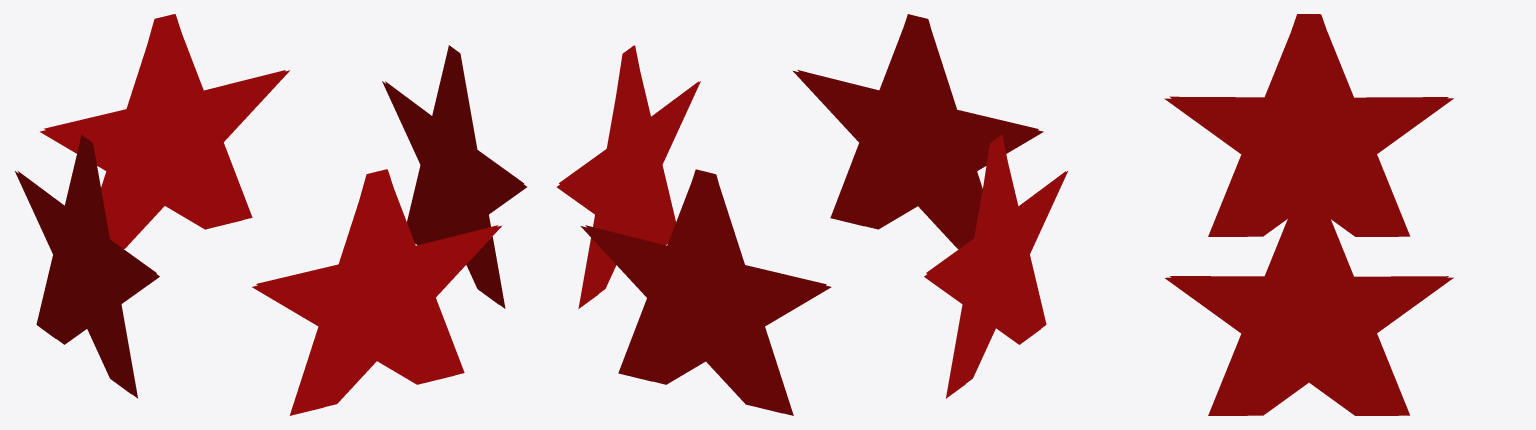
File: FshiInk(r).obj
3 renders of one model, left to right at view 1: azimuth 30°, elevation 25°; view 2: azimuth 150°, elevation 25°; view 3: azimuth 270°, elevation 25°, orthographic.
Parts seen in each view (by area): view 1: Plane.005_Plane.009; view 2: Plane.005_Plane.009; view 3: Plane.005_Plane.009.
Part boxes in pixels (box(x1,y1,x2,y2)): Plane.005_Plane.009: box(15, 14, 526, 415); Plane.005_Plane.009: box(556, 14, 1067, 415); Plane.005_Plane.009: box(1164, 14, 1453, 415).
Size of the model in its own units: 3.46 by 2 by 3.46.
